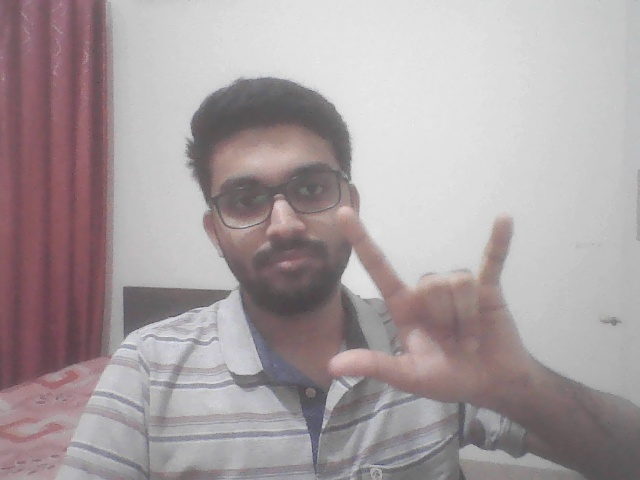iloveyou: (314, 203, 553, 436)
